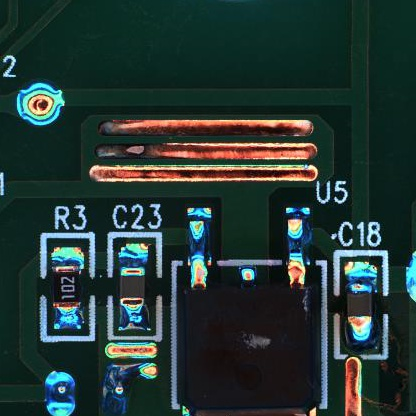spot: (16, 81, 63, 125), (42, 368, 76, 416)
